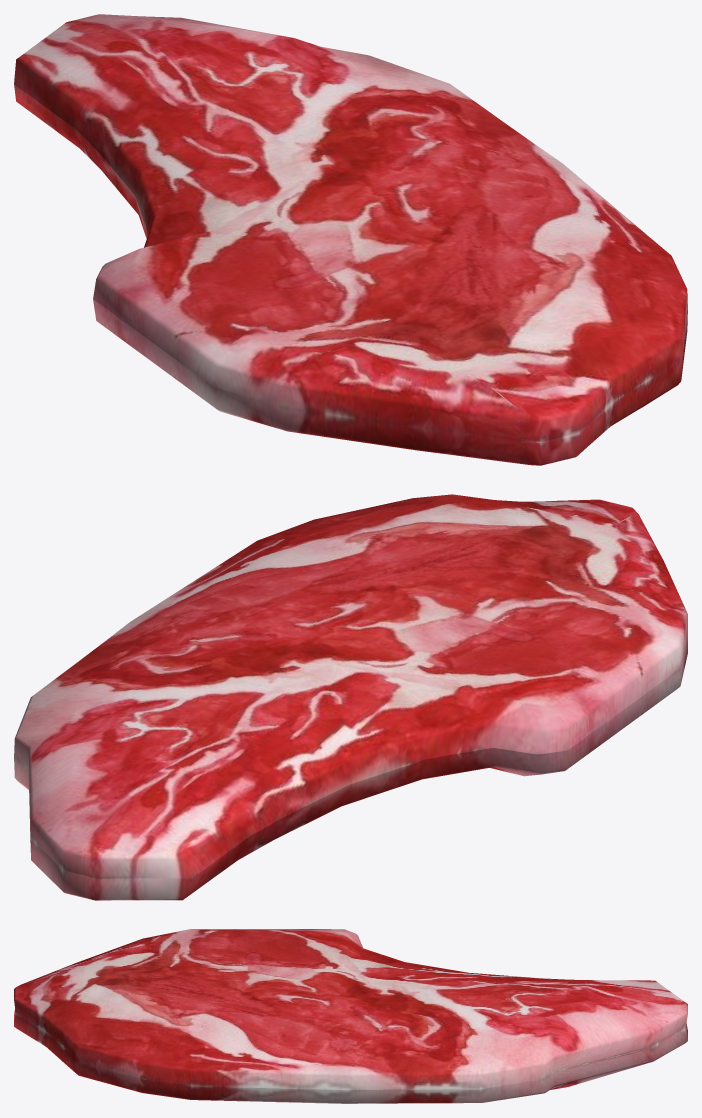
File: meat.FBX
3 renders of one model, top to bottom at view 1: azimuth 30°, elevation 25°; view 2: azimuth 150°, elevation 25°; view 3: azimuth 270°, elevation 25°, orthographic. The views are drawn at different scales.
Visible parts, largest first — view 1: Plane001; view 2: Plane001; view 3: Plane001.
Part boxes in pixels (<box>): Plane001: <box>14,14,687,465</box>; Plane001: <box>14,494,687,900</box>; Plane001: <box>14,929,687,1103</box>.
Bounding box in the file's own units: 3.63 × 0.7449 × 7.04.
Materials: 1 (1 with a texture image).
